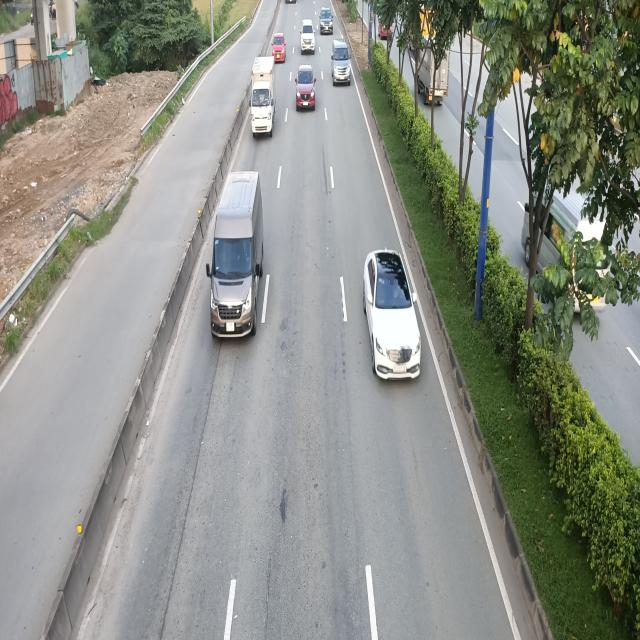car: (364, 247, 423, 381), (294, 63, 316, 111), (332, 40, 352, 86), (272, 33, 288, 65), (299, 19, 314, 53), (319, 5, 334, 34)
truck: (250, 58, 278, 139)
van: (206, 169, 264, 337)
